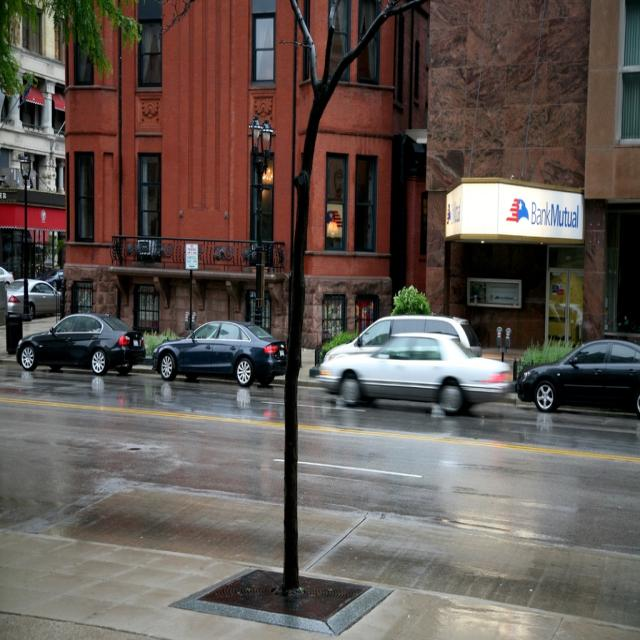car: (317, 331, 516, 416), (152, 318, 290, 388), (17, 311, 146, 378)
